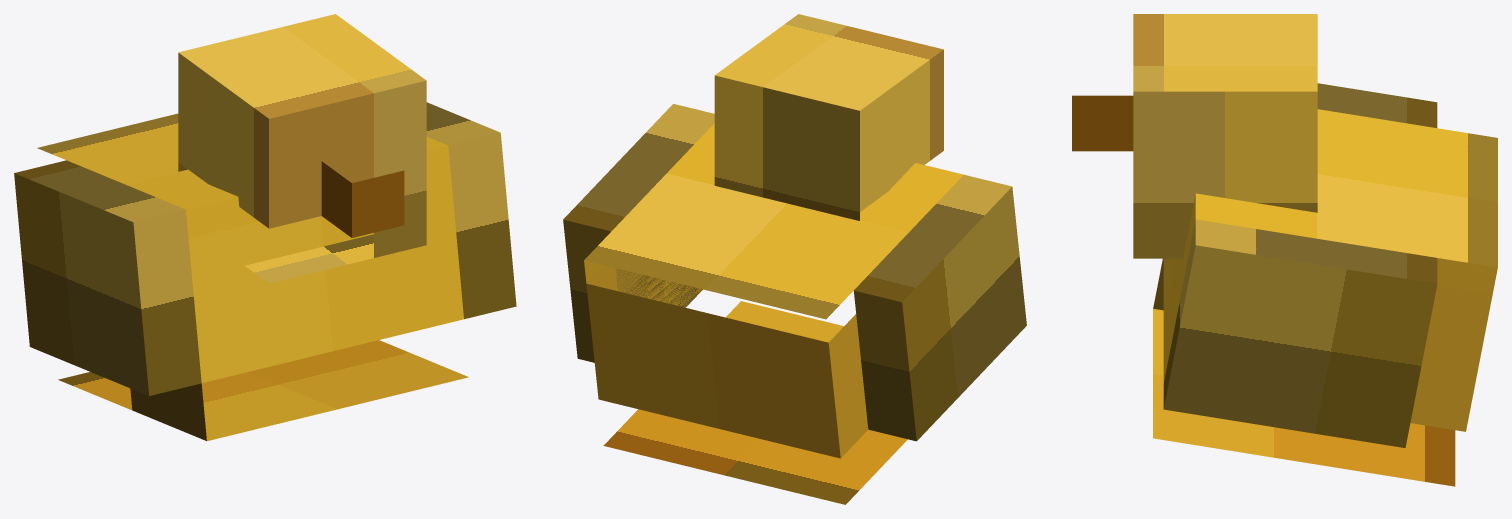
The model's file is sl_chick.glb.
3 renders of one model, left to right at view 1: azimuth 30°, elevation 25°; view 2: azimuth 150°, elevation 25°; view 3: azimuth 270°, elevation 25°, orthographic. The views are drawn at different scales.
Parts seen in each view (by area): view 1: bb_chick; view 2: bb_chick; view 3: bb_chick.
Part boxes in pixels (left/top/right/bottom): bb_chick: left=14, top=14, right=516, bottom=440; bb_chick: left=563, top=14, right=1026, bottom=504; bb_chick: left=1072, top=14, right=1497, bottom=486.
Bounding box in the file's own units: 0.4375 × 0.4146 × 0.4337.
1 material, 1 textured.
